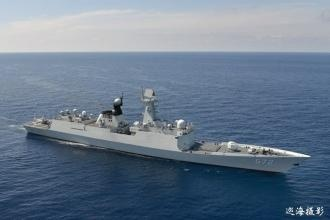warship: (8, 76, 312, 174)
